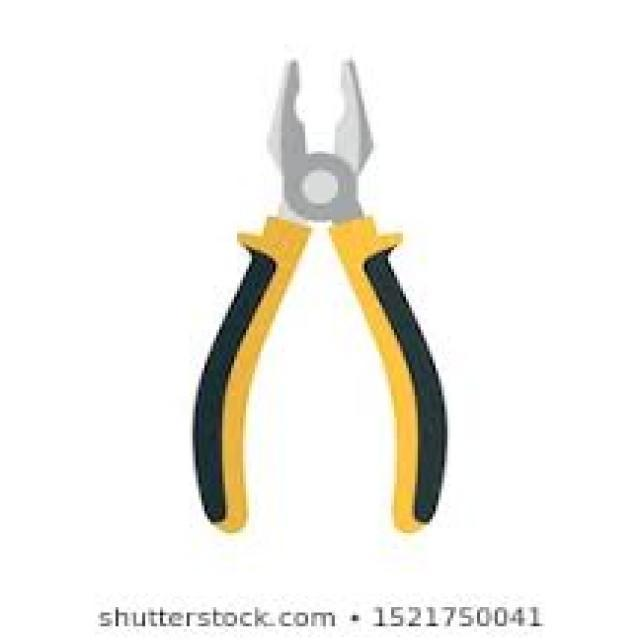pliers: (182, 48, 474, 546)
